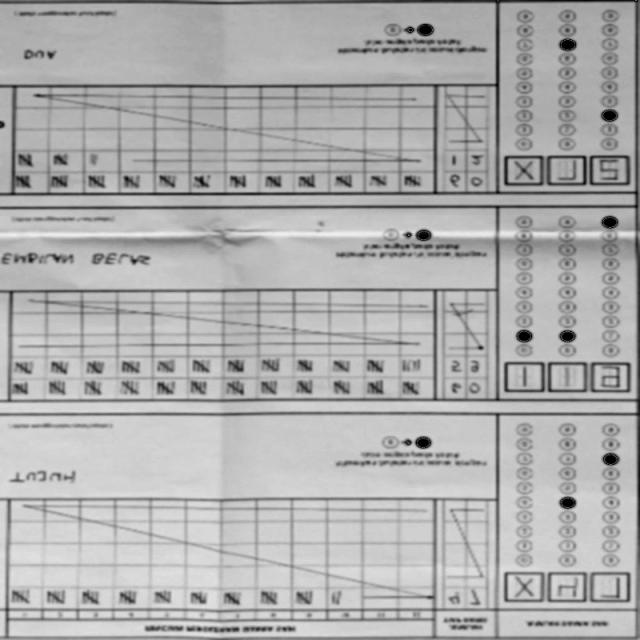Suara: (498, 152, 630, 193), (498, 576, 638, 614), (498, 362, 633, 398)
